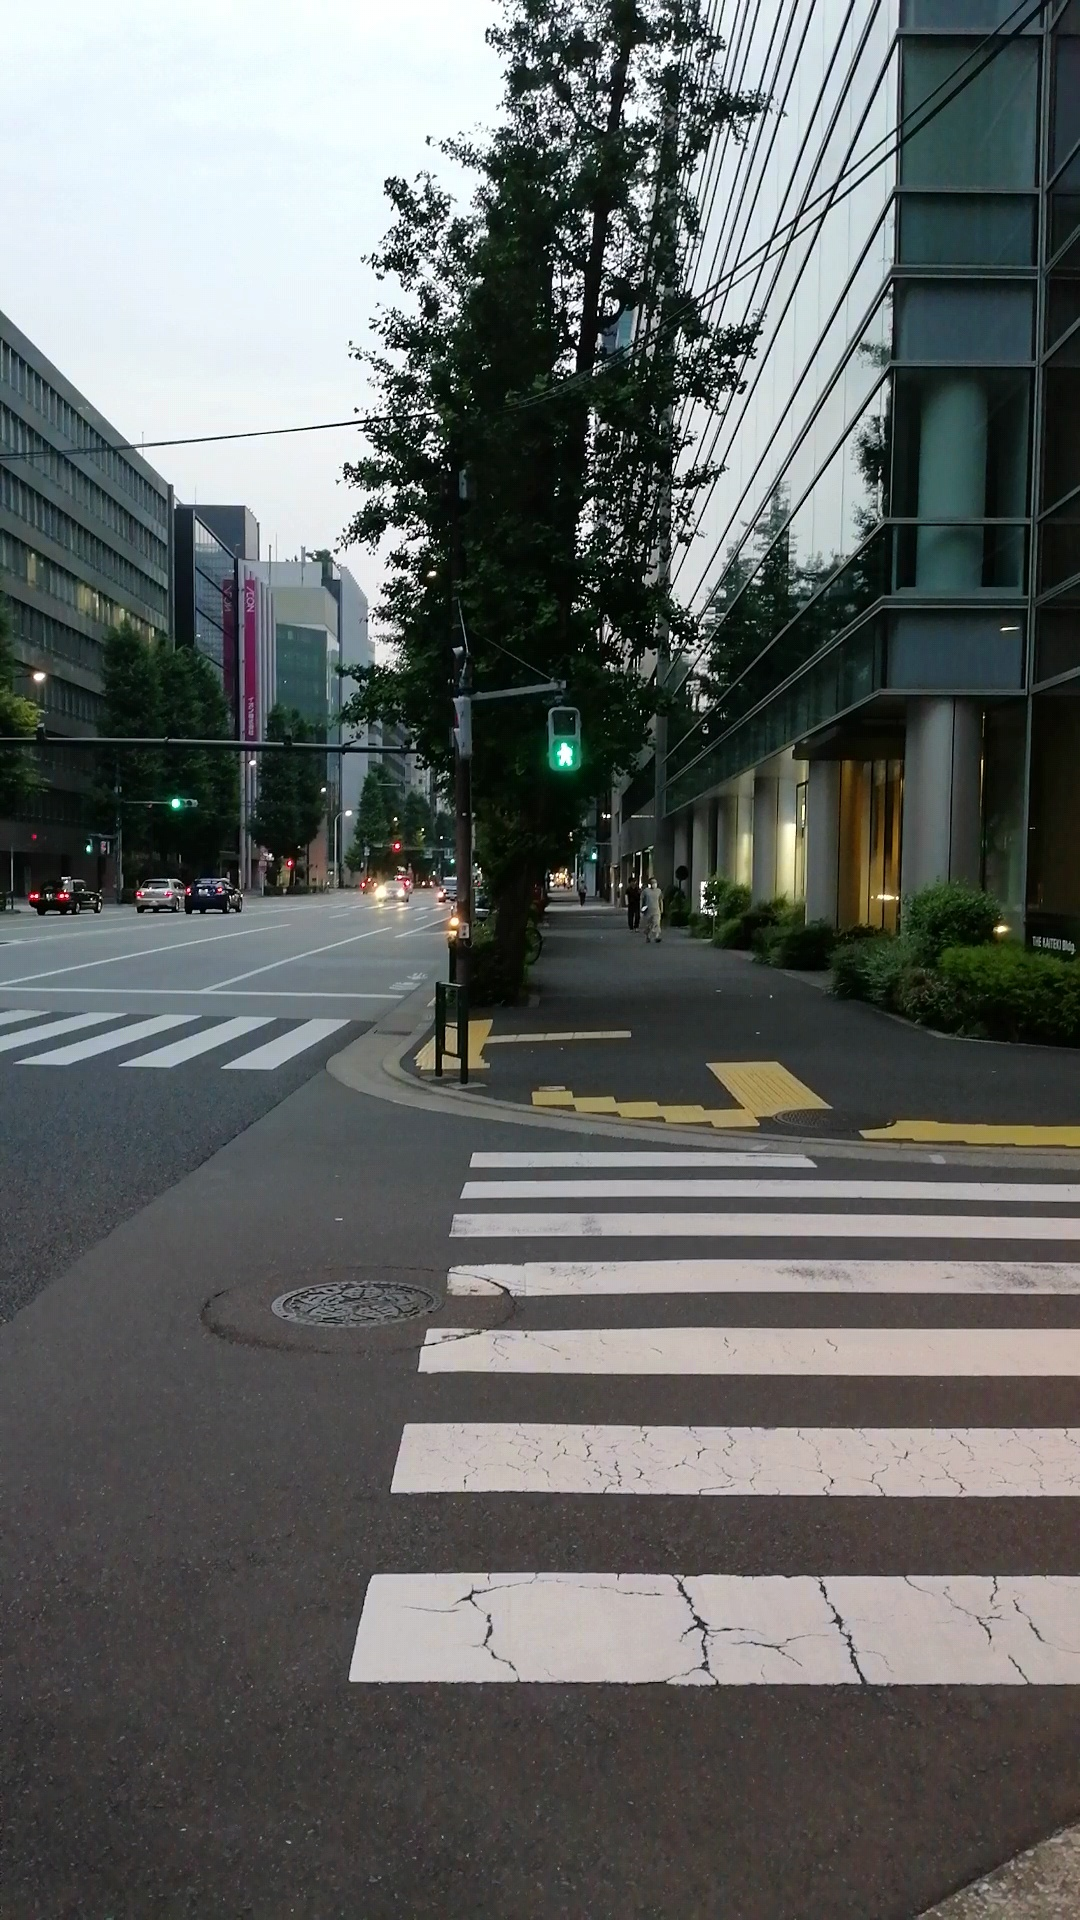green: (545, 705, 582, 773)
